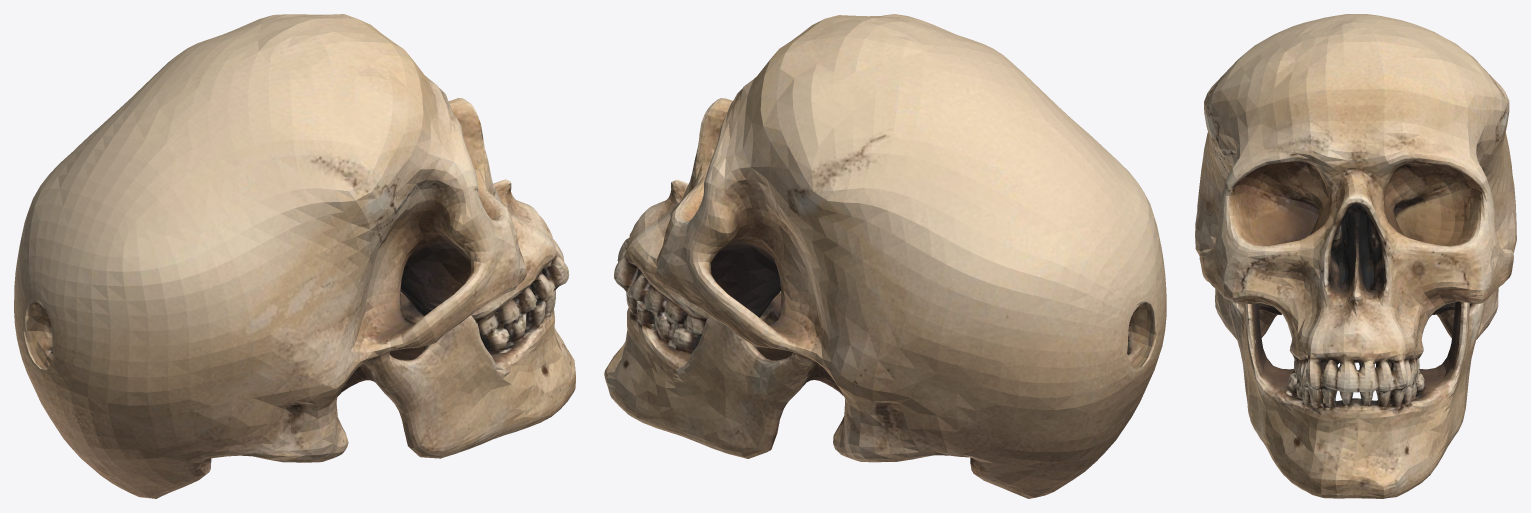
The model's file is human skull.glb.
3 views of the same model, side by side, from view 1: azimuth 30°, elevation 25°; view 2: azimuth 150°, elevation 25°; view 3: azimuth 270°, elevation 25° (orthographic). The views are drawn at different scales.
Visible parts, largest first — view 1: tripo_node_60777579-2442-45f9-b3fe-5c214df1e21d; view 2: tripo_node_60777579-2442-45f9-b3fe-5c214df1e21d; view 3: tripo_node_60777579-2442-45f9-b3fe-5c214df1e21d.
Boxes of the visible parts, <box> form: tripo_node_60777579-2442-45f9-b3fe-5c214df1e21d: <box>14,14,575,498</box>; tripo_node_60777579-2442-45f9-b3fe-5c214df1e21d: <box>604,14,1166,498</box>; tripo_node_60777579-2442-45f9-b3fe-5c214df1e21d: <box>1195,14,1516,498</box>.
Bounding box in the file's own units: 0.9779 × 0.7485 × 0.5905.
Materials: 1 (1 with a texture image).
